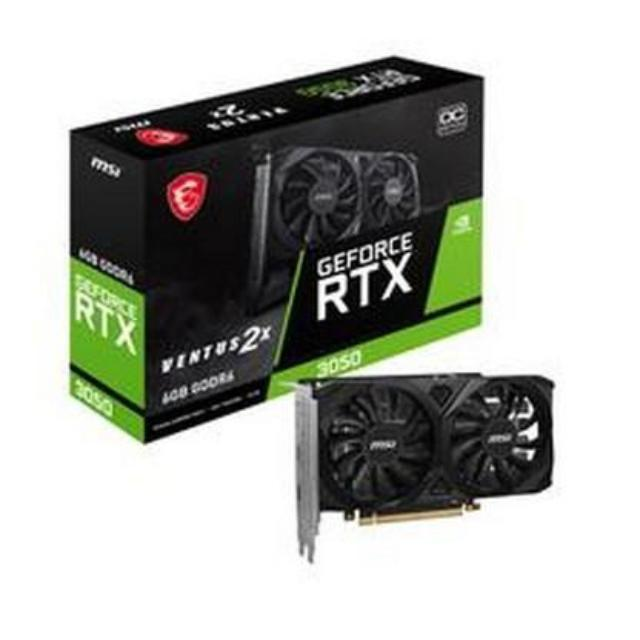GPU: (290, 362, 561, 532)
